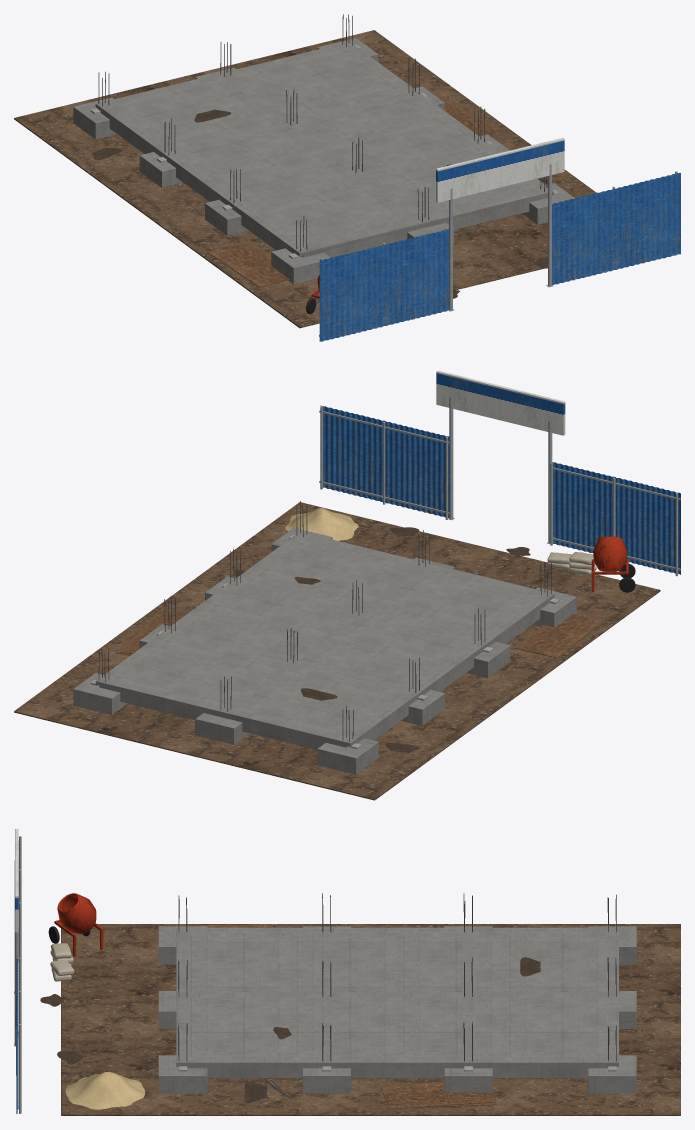
Rendered from phase-1.glb.
The picture shows the model from 3 angles, top to bottom: view 1: azimuth 30°, elevation 25°; view 2: azimuth 150°, elevation 25°; view 3: azimuth 270°, elevation 25°; orthographic projection. The views are drawn at different scales.
Visible parts, largest first — view 1: Slab_1, Ground_1, Temp_Hoarding_1, Temp_Hoarding_2, Temp_SiteBoard_1, GroundBeam_1, GroundBeam_7, Temp_FormworkBoards_1, StarterBars_1, GroundBeam_2, GroundBeam_3, GroundBeam_4 (+7 smaller); view 2: Slab_1, Ground_1, Temp_Hoarding_2, Temp_Hoarding_1, Temp_SiteBoard_1, GroundBeam_4, GroundBeam_1, Temp_FormworkBoards_1, StarterBars_1, Temp_CementMixer_1, GroundBeam_2, PileCap_1 (+11 smaller); view 3: Slab_1, Ground_1, GroundBeam_3, GroundBeam_2, GroundBeam_1, Temp_FormworkBoards_1, Temp_SandPile_1, GroundBeam_7, Temp_CementMixer_1, GroundBeam_4, GroundBeam_6, PileCap_12 (+13 smaller).
Boxes of the visible parts, <box> form: Slab_1: <box>95,41,553,256</box>; Ground_1: <box>14,30,596,328</box>; Temp_Hoarding_1: <box>319,227,448,341</box>; Temp_Hoarding_2: <box>552,171,680,285</box>; Temp_SiteBoard_1: <box>436,138,564,202</box>; GroundBeam_1: <box>97,103,306,254</box>; GroundBeam_7: <box>301,192,547,257</box>; Temp_FormworkBoards_1: <box>207,95,500,287</box>; StarterBars_1: <box>98,14,547,251</box>; GroundBeam_2: <box>220,73,428,221</box>; GroundBeam_3: <box>342,43,547,190</box>; GroundBeam_4: <box>100,42,350,106</box>; Slab_1: <box>95,532,554,746</box>; Ground_1: <box>14,502,660,800</box>; Temp_Hoarding_2: <box>319,405,449,519</box>; Temp_Hoarding_1: <box>549,462,680,576</box>; Temp_SiteBoard_1: <box>436,370,565,435</box>; GroundBeam_4: <box>99,678,351,749</box>; GroundBeam_1: <box>344,593,551,744</box>; Temp_FormworkBoards_1: <box>116,613,603,658</box>; StarterBars_1: <box>98,501,551,741</box>; Temp_CementMixer_1: <box>591,536,635,592</box>; GroundBeam_2: <box>221,564,429,711</box>; PileCap_1: <box>317,738,378,774</box>; Slab_1: <box>176,927,618,1066</box>; Ground_1: <box>61,924,680,1115</box>; GroundBeam_3: <box>181,1057,614,1078</box>; GroundBeam_2: <box>181,992,614,997</box>; GroundBeam_1: <box>181,927,614,932</box>; Temp_FormworkBoards_1: <box>167,924,496,1109</box>; Temp_SandPile_1: <box>65,1071,145,1109</box>; GroundBeam_7: <box>176,929,189,1066</box>; Temp_CementMixer_1: <box>48,893,103,956</box>; GroundBeam_4: <box>606,929,618,1066</box>; GroundBeam_6: <box>320,930,332,1060</box>; PileCap_12: <box>158,1055,207,1093</box>.
Size of the model in its own units: 10.2 by 3.94 by 15.07.
Materials: 13 (13 with a texture image).
